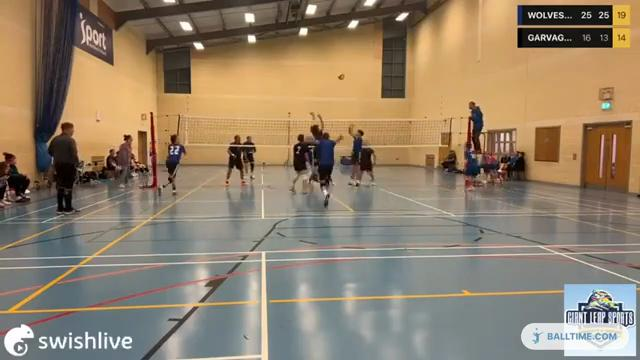Player: (317, 132, 342, 207), (161, 134, 185, 194), (290, 134, 309, 193), (309, 112, 324, 181), (225, 135, 245, 186), (359, 141, 375, 185), (243, 136, 256, 178)
Set: (344, 121, 366, 191)
ball: (338, 72, 348, 82)
